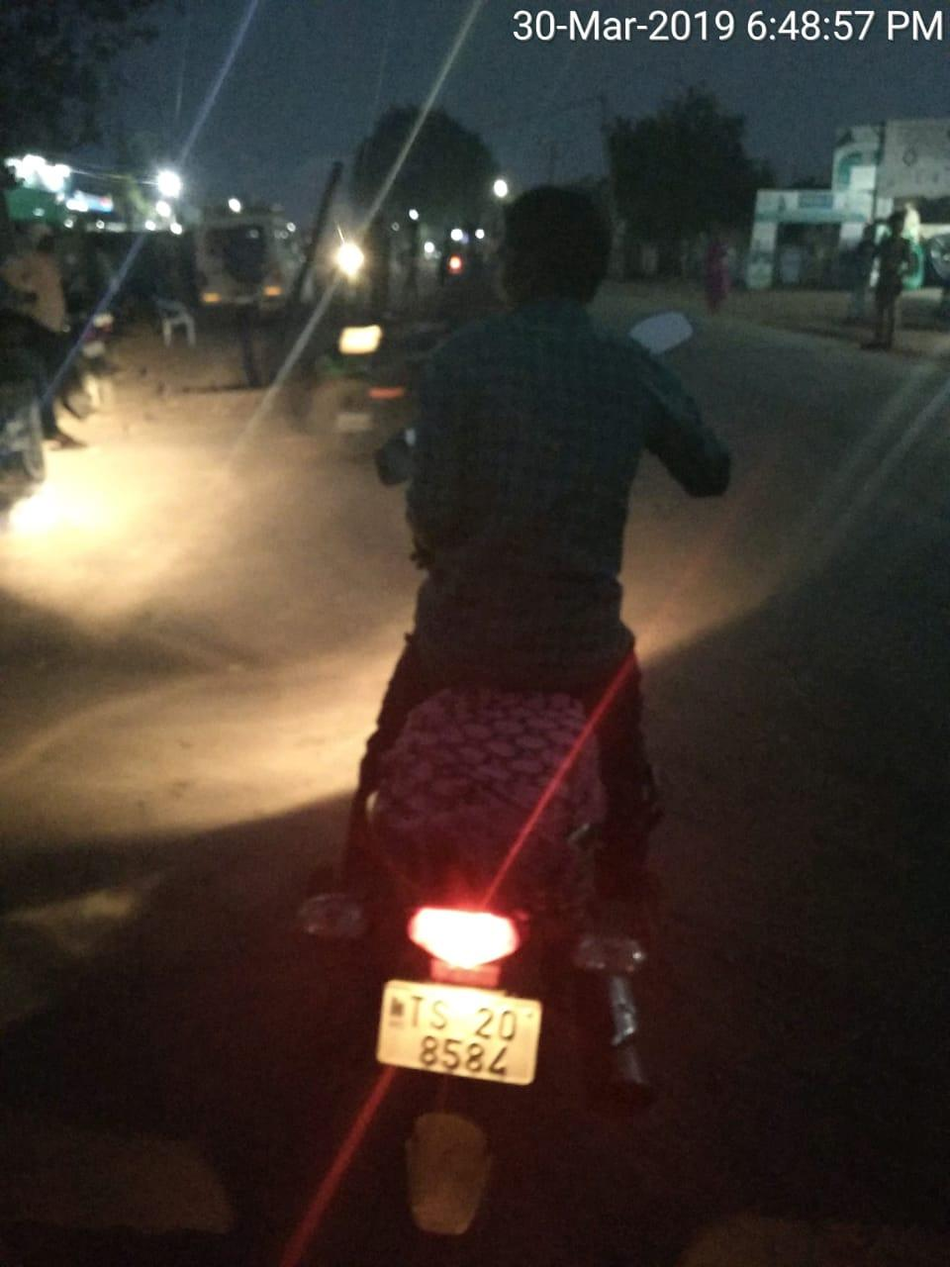plate: (357, 966, 573, 1122)
